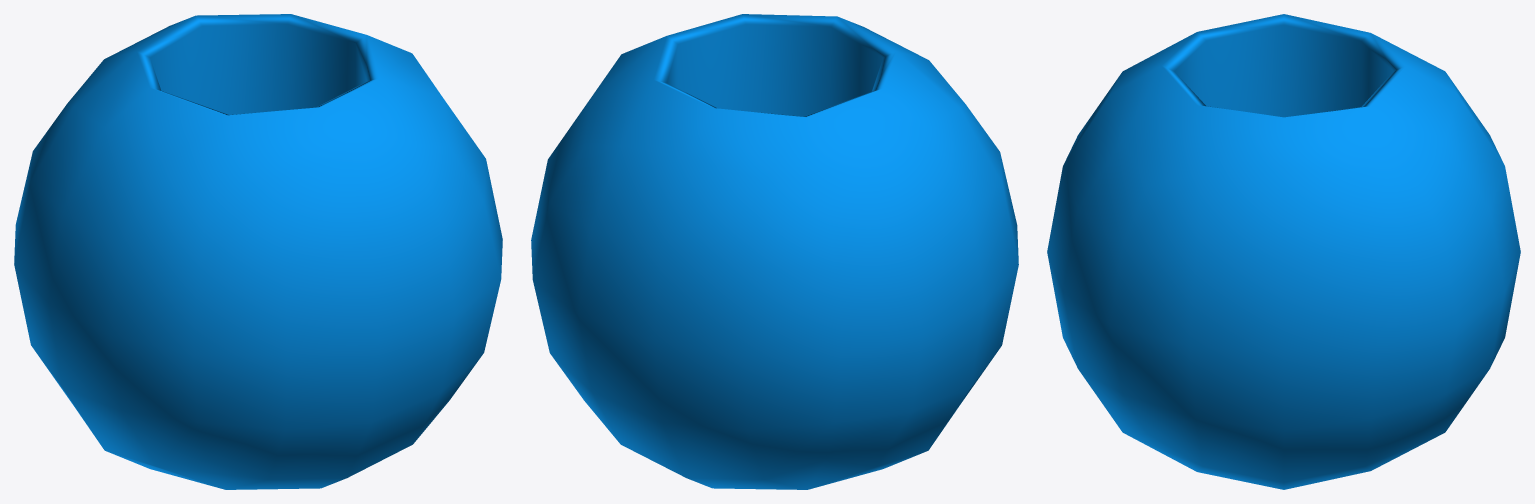
Rendered from Store_9_Toy_Ball_6.glb.
The picture shows the model from 3 angles, left to right: view 1: azimuth 30°, elevation 25°; view 2: azimuth 150°, elevation 25°; view 3: azimuth 270°, elevation 25°; orthographic projection. The views are drawn at different scales.
Parts seen in each view (by area): view 1: Store_9_Toy_Ball_6; view 2: Store_9_Toy_Ball_6; view 3: Store_9_Toy_Ball_6.
Boxes of the visible parts, x1,y1,x2,y2 form: Store_9_Toy_Ball_6: (14,14,502,489); Store_9_Toy_Ball_6: (531,14,1018,489); Store_9_Toy_Ball_6: (1047,14,1520,489).
Bounding box in the file's own units: 0.2652 × 0.2301 × 0.2652.
Materials: 1 (1 with a texture image).
